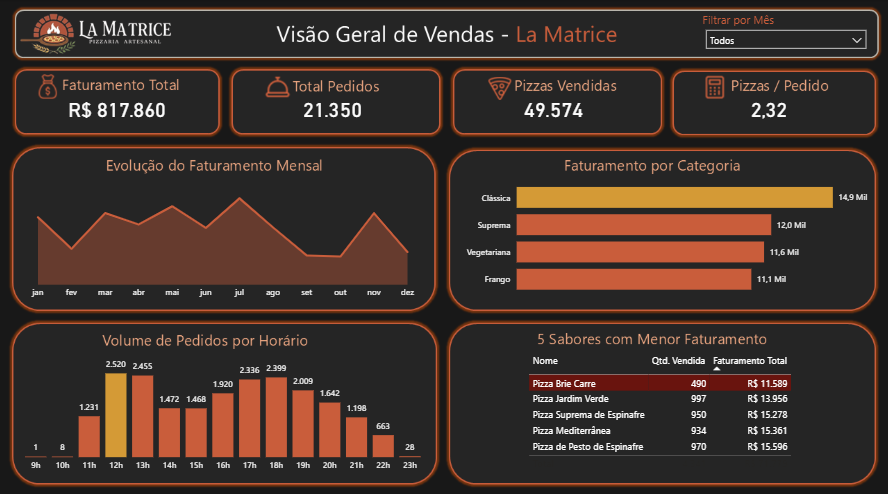

The page's visual inventory and layout, read from the dashboard file:
{"tool":"powerbi","page":{"name":"Vendas - La Matrice","canvas":[1280,720],"ordinal":0},"visuals":[{"type":"areaChart","fields":{"Y":["_Medidas.Faturamento Total"],"Category":["dCalendario.Mês Nome Curto"]},"box":[30.4,248.5,581,191.3],"z":0},{"type":"card","fields":{"Values":["_Medidas.Faturamento Total"]},"box":[18.7,85,299.5,146.9],"z":1000},{"type":"card","fields":{"Values":["_Medidas.Total Pedidos"]},"box":[328.3,85,301,146.9],"z":2000},{"type":"card","fields":{"Values":["_Medidas.Média Pizzas por Pedido"]},"box":[957.6,85,299.5,146.9],"z":3000},{"type":"card","fields":{"Values":["_Medidas.Qtde Pizzas Vendidas"]},"box":[646.6,85,301,146.9],"z":4000},{"type":"clusteredBarChart","fields":{"Category":["dProduto.Categoria"],"Y":["_Medidas.Qtde Pizzas Vendidas"]},"box":[661,241.9,593.3,198.7],"z":5000},{"type":"clusteredColumnChart","fields":{"Category":["fPedido.Hora Cheia"],"Y":["_Medidas.Total Pedidos"]},"box":[15.8,501.1,610.6,188.6],"z":6000},{"type":"tableEx","fields":{"Values":["dProduto.Nome","_Medidas.Qtde Pizzas Vendidas","_Medidas.Faturamento Total"]},"box":[756.2,504.1,402.2,182.3],"z":7000},{"type":"slicer","fields":{"Values":["dCalendario.Mês Nome Completo"]},"box":[1004.3,24.3,250,50],"z":8000}]}

Visuals, with their boxes in screenshot pixels (x1, y1, x2, y2), scaled from the page's 1280x720 canvas onto the 888x494 screenshot:
areaChart - _Medidas.Faturamento Total x dCalendario.Mês Nome Curto: <box>21,170,424,302</box>
card - _Medidas.Faturamento Total: <box>13,58,221,159</box>
card - _Medidas.Total Pedidos: <box>228,58,437,159</box>
card - _Medidas.Média Pizzas por Pedido: <box>664,58,872,159</box>
card - _Medidas.Qtde Pizzas Vendidas: <box>449,58,657,159</box>
clusteredBarChart - dProduto.Categoria x _Medidas.Qtde Pizzas Vendidas: <box>459,166,870,302</box>
clusteredColumnChart - fPedido.Hora Cheia x _Medidas.Total Pedidos: <box>11,344,435,473</box>
tableEx - dProduto.Nome x _Medidas.Qtde Pizzas Vendidas: <box>525,346,804,471</box>
slicer - dCalendario.Mês Nome Completo: <box>697,17,870,51</box>
